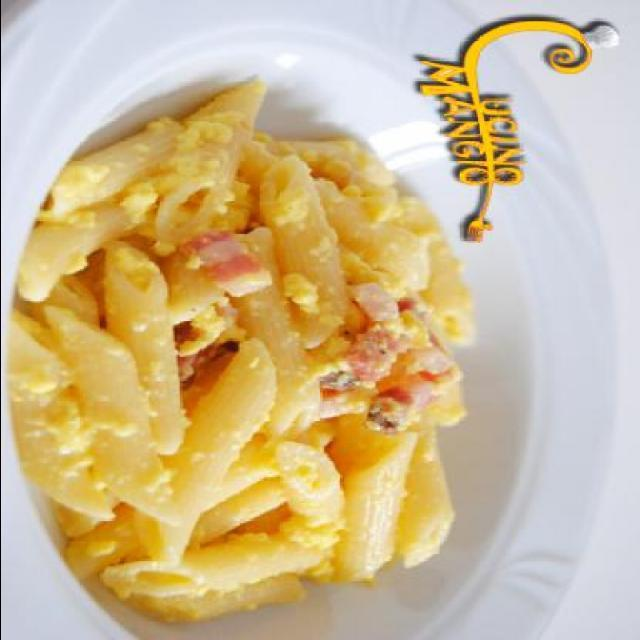Pasta with carbonara sauce: (46, 130, 414, 606)
